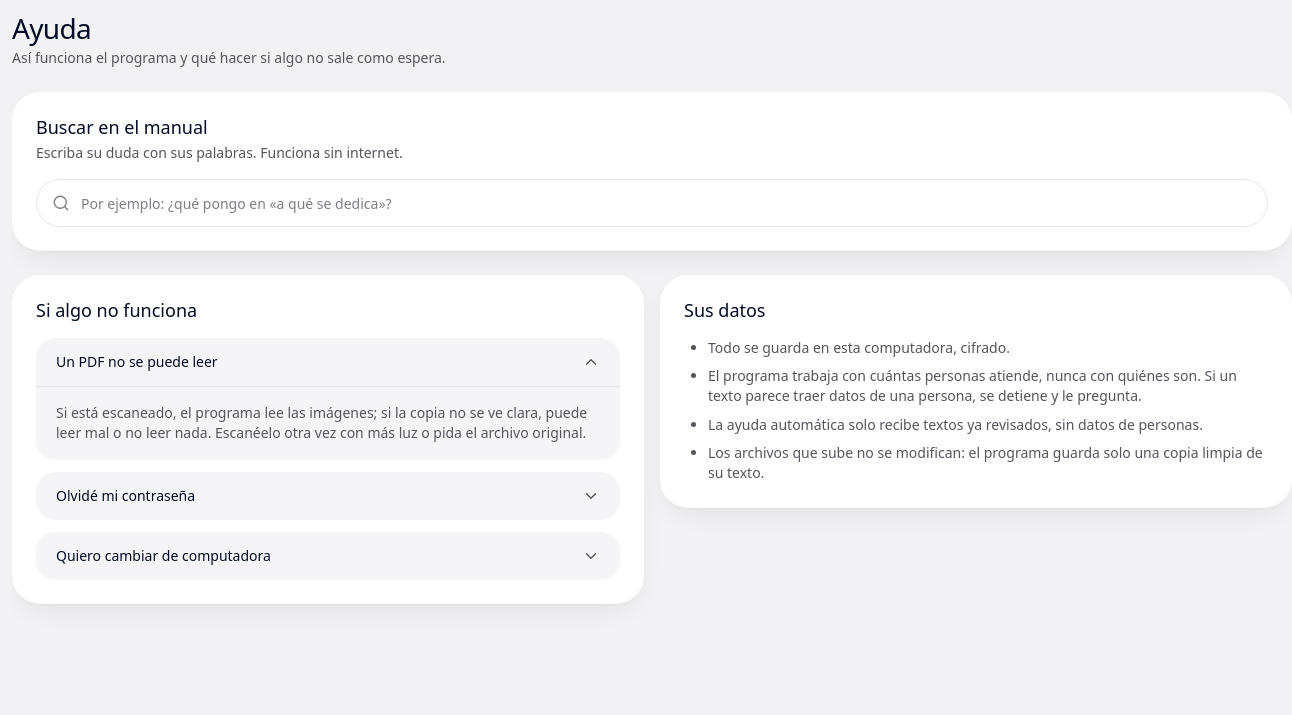
Test: the search in the manual, in Ayuda › finds what answers the doubt and opens it, with no AI
This screenshot has width=1292, height=715.
Type "respaldo" into the search field named "Buscar en el manual" at (652, 203), box [36,179,1268,227]
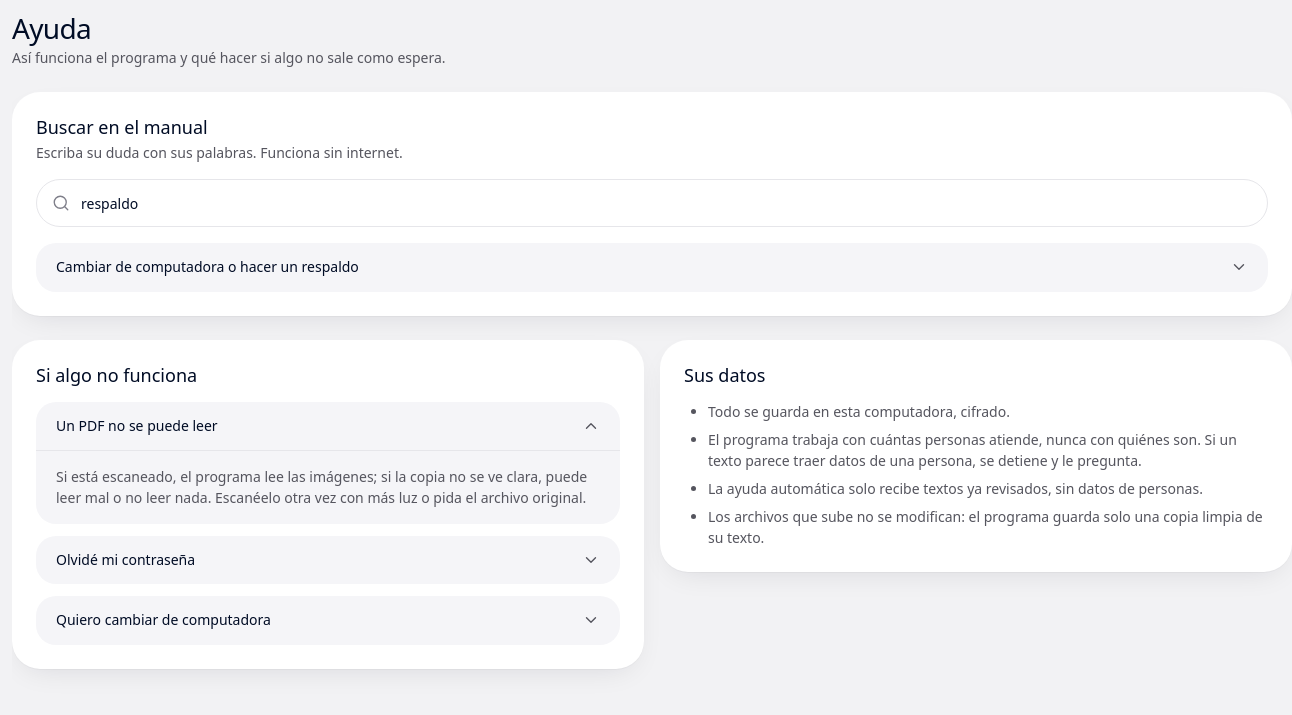
Click the button "Cambiar de computadora o hacer un respaldo" at (207, 267), box [36,243,1268,292]
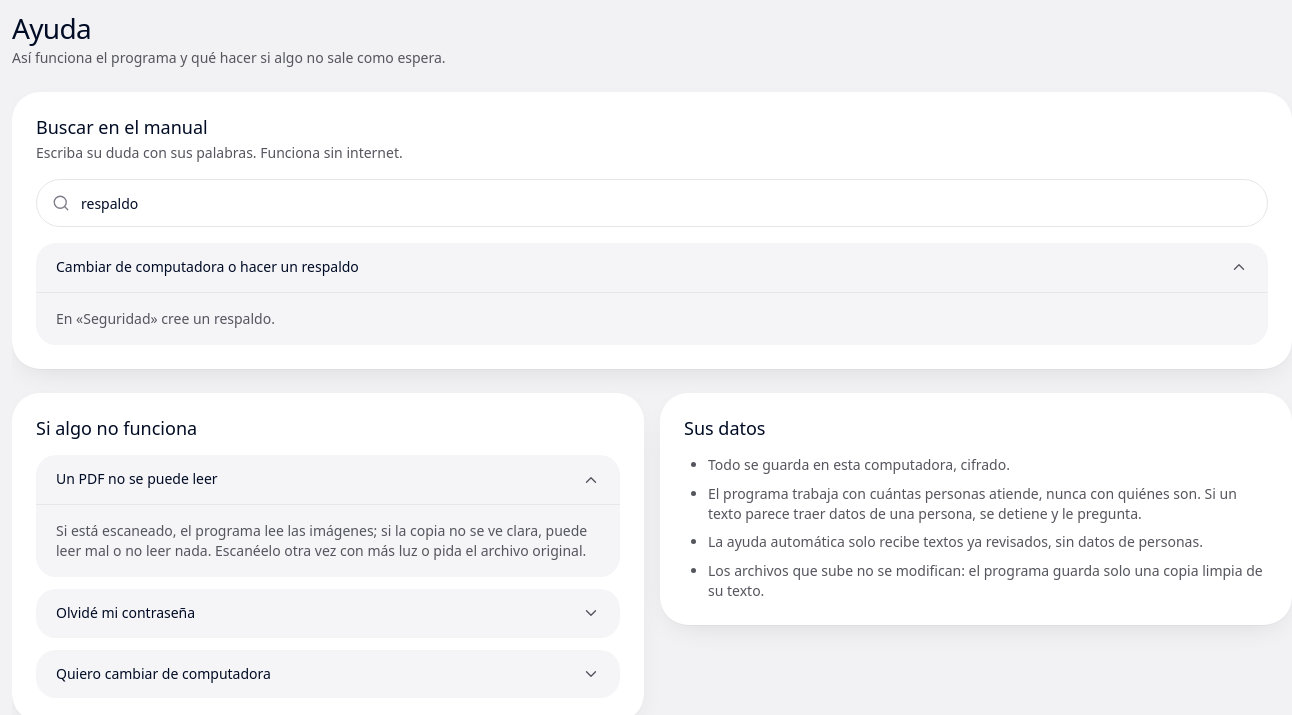
Expected: the text "En «Seguridad» cree un respaldo." is shown, [56,309,275,328]
